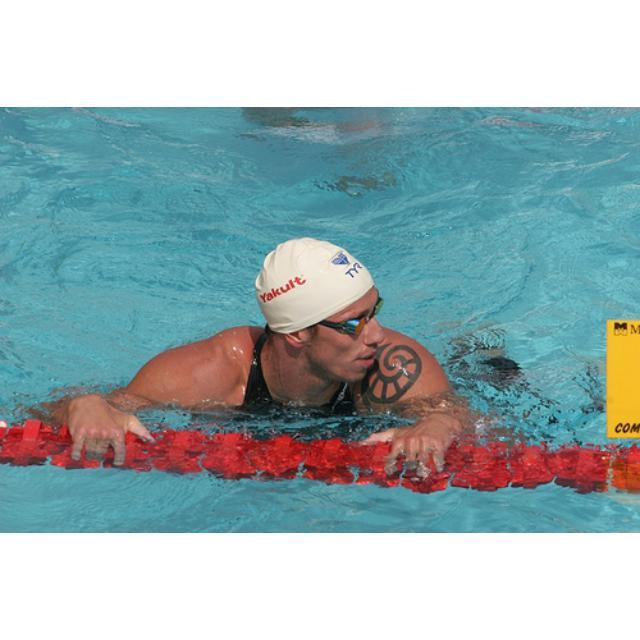human: (54, 237, 467, 468)
